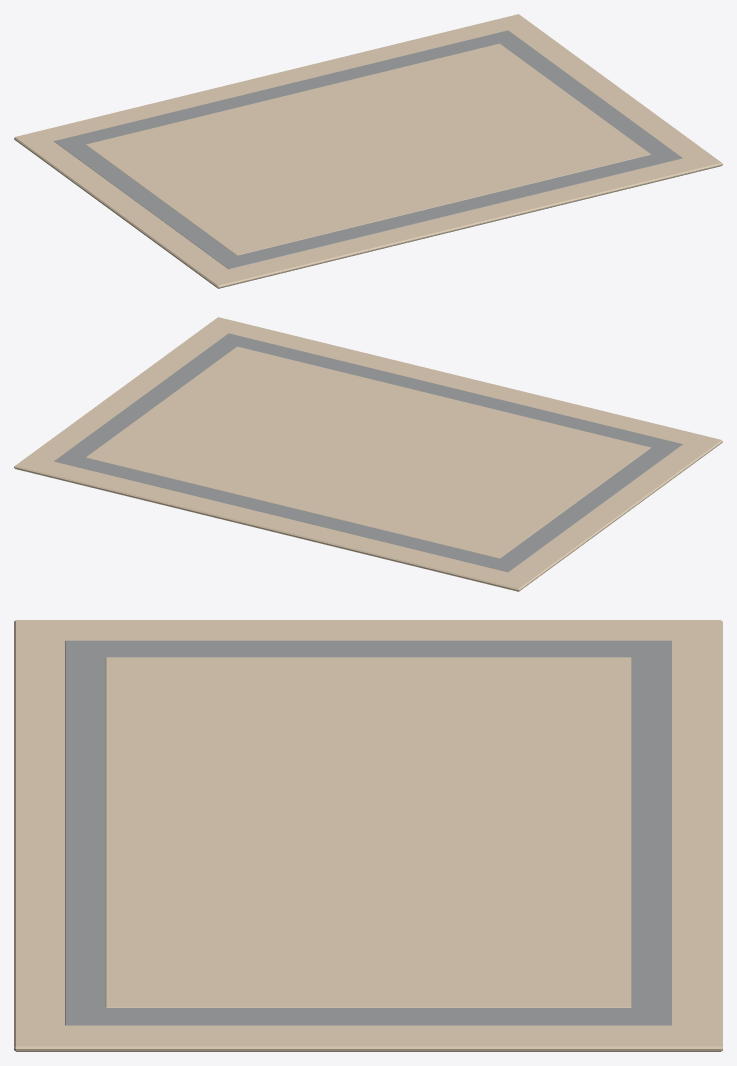
File: i_rug_0.glb
3 renders of one model, top to bottom at view 1: azimuth 30°, elevation 25°; view 2: azimuth 150°, elevation 25°; view 3: azimuth 270°, elevation 25°, orthographic. The views are drawn at different scales.
Parts seen in each view (by area): view 1: o.002, o, o.001; view 2: o.002, o, o.001; view 3: o.002, o, o.001.
Boxes of the visible parts, x1,y1,x2,y2 form: o.002: (86, 43, 650, 255); o: (14, 14, 722, 288); o.001: (54, 30, 682, 269); o.002: (86, 346, 650, 558); o: (14, 317, 722, 591); o.001: (54, 333, 682, 572); o.002: (105, 657, 631, 1007); o: (14, 620, 722, 1051); o.001: (65, 640, 671, 1025).
Size of the model in its own units: 2 by 0.014 by 1.4.
